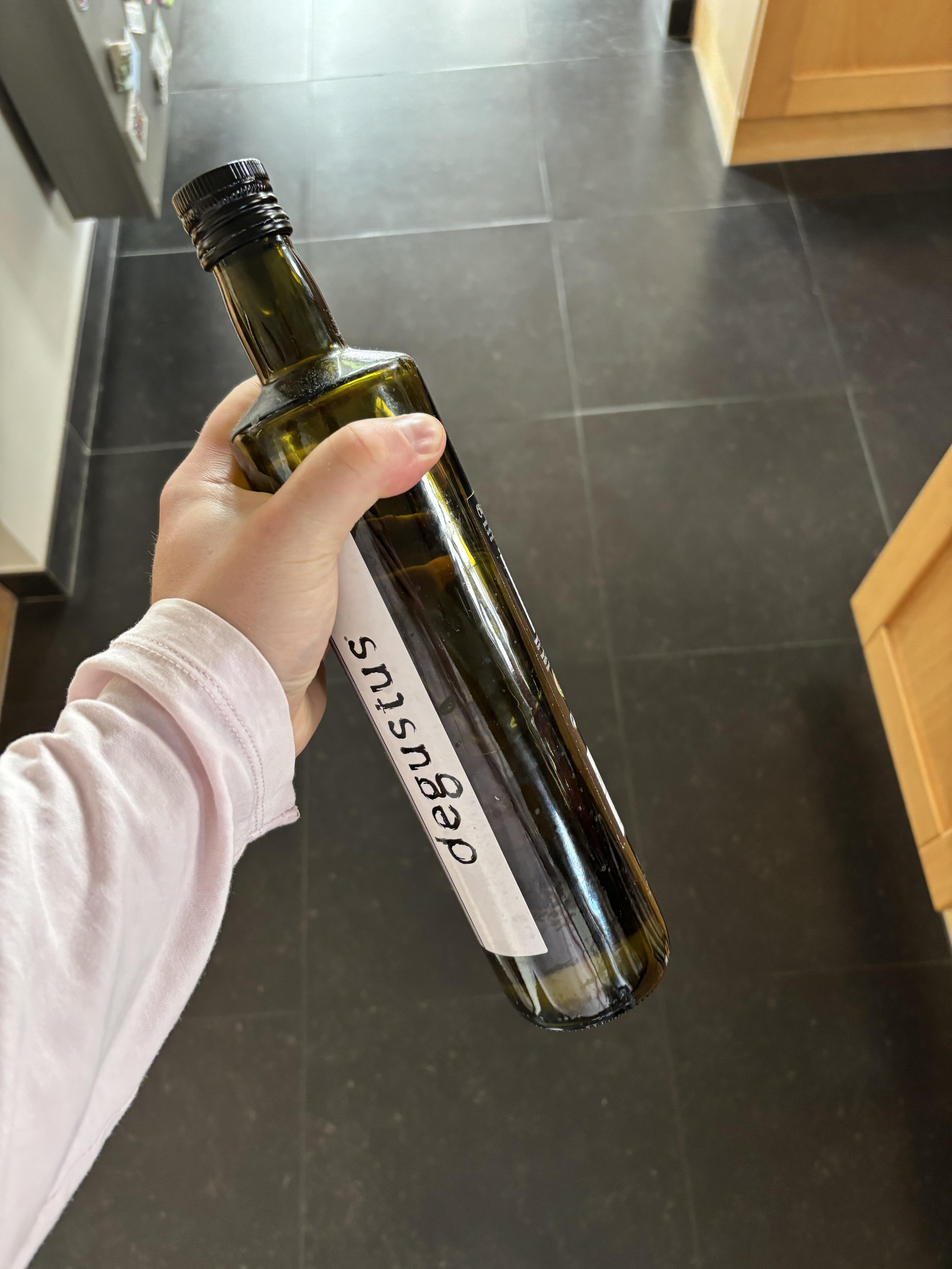Glass: (171, 145, 682, 1031)
